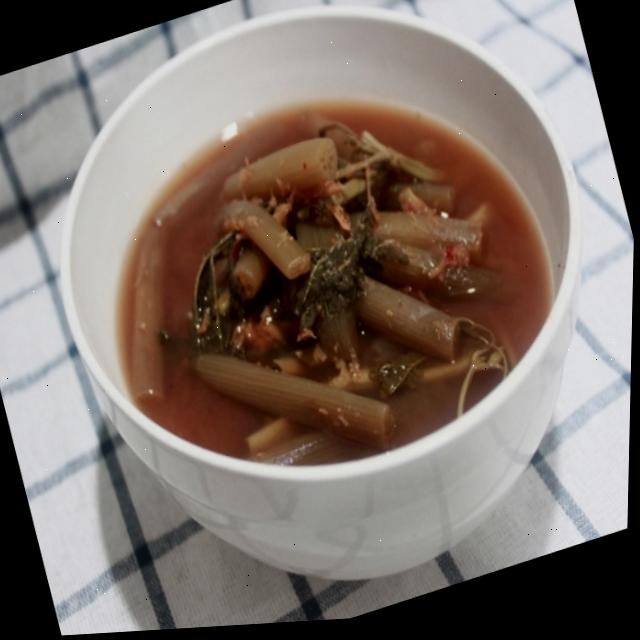汤锅炖物: (36, 2, 615, 564)
